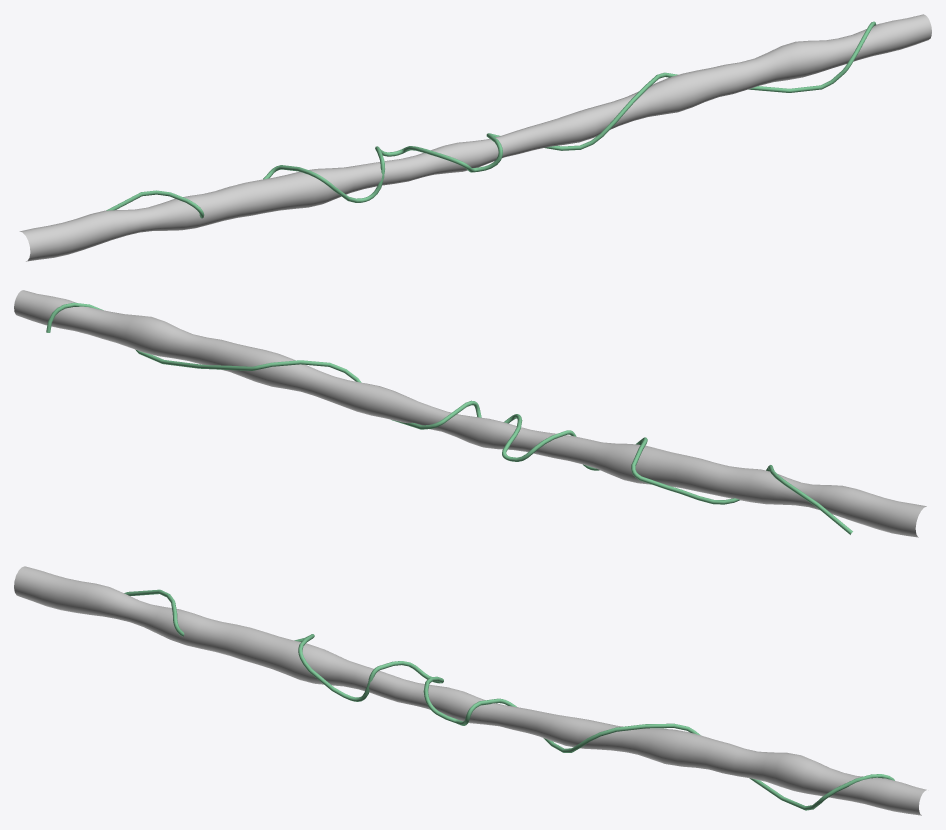
3 views of the same model, one above another, from view 1: azimuth 30°, elevation 25°; view 2: azimuth 150°, elevation 25°; view 3: azimuth 330°, elevation 25° (orthographic).
Parts seen in each view (by area): view 1: 木头01_obj, 藤条; view 2: 木头01_obj, 藤条; view 3: 木头01_obj, 藤条.
Boxes of the visible parts, box(x1,y1,x2,y2) form: 木头01_obj: box(19, 14, 931, 261); 藤条: box(106, 21, 876, 218); 木头01_obj: box(14, 290, 926, 537); 藤条: box(46, 302, 852, 534); 木头01_obj: box(14, 566, 926, 815); 藤条: box(124, 589, 894, 810).
Size of the model in its own units: 8.45 by 0.4577 by 0.6247.
